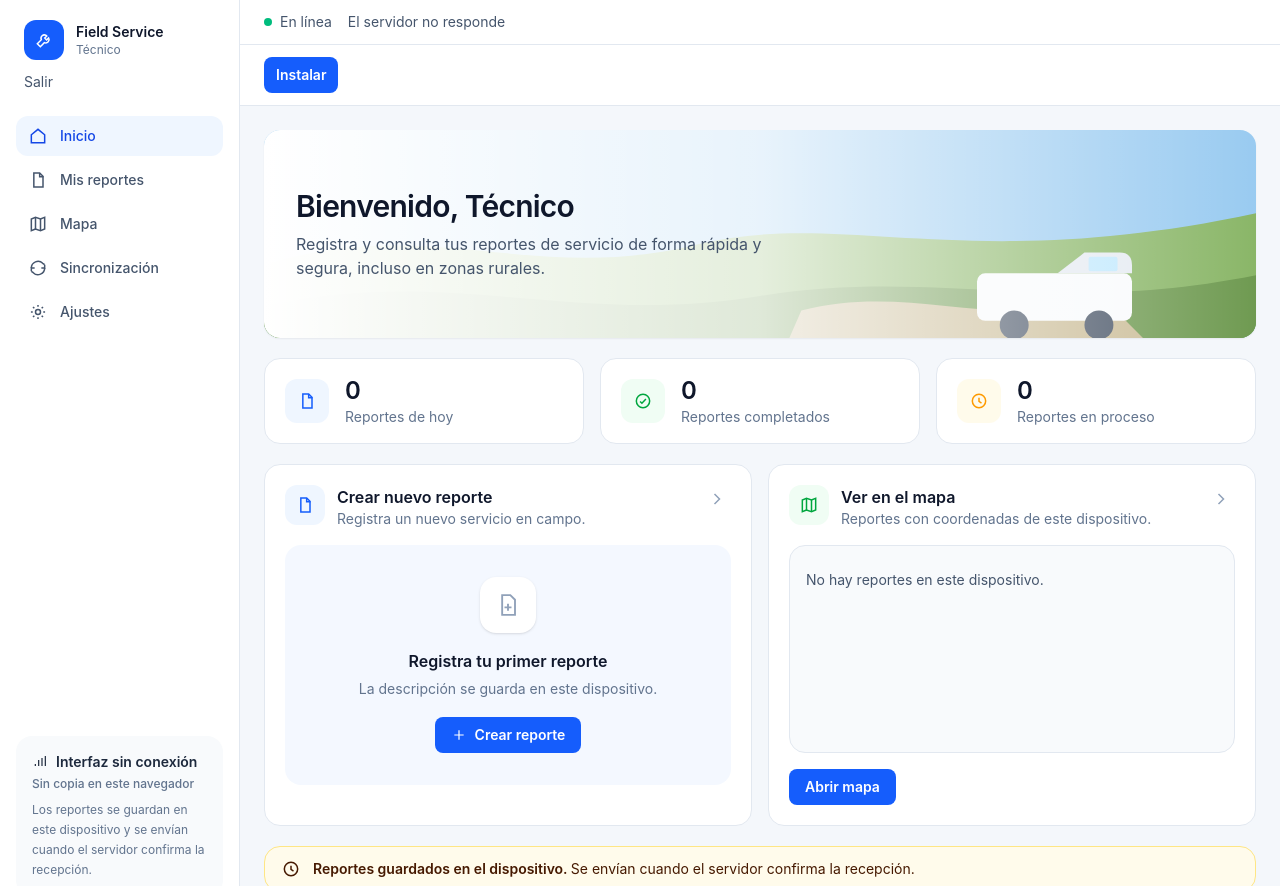
Test: App › explica la instalación en un iPhone
Expected: the heading "Bienvenido, Técnico" is shown, [296,188,574,224]
Click the button "Instalar" at (301, 75), box [264,57,338,93]
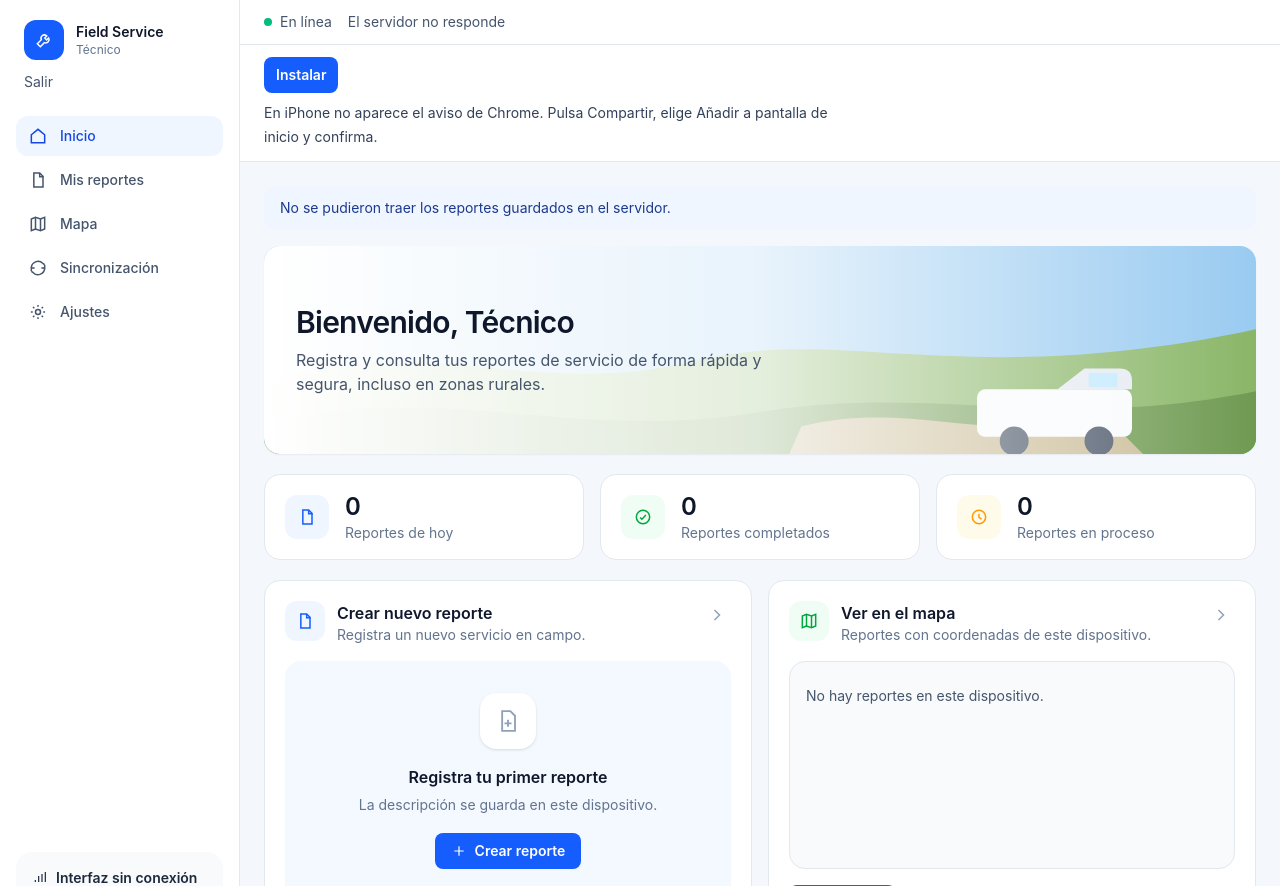
Expected: the text "Añadir a pantalla de inicio" is shown, [264,104,828,145]
